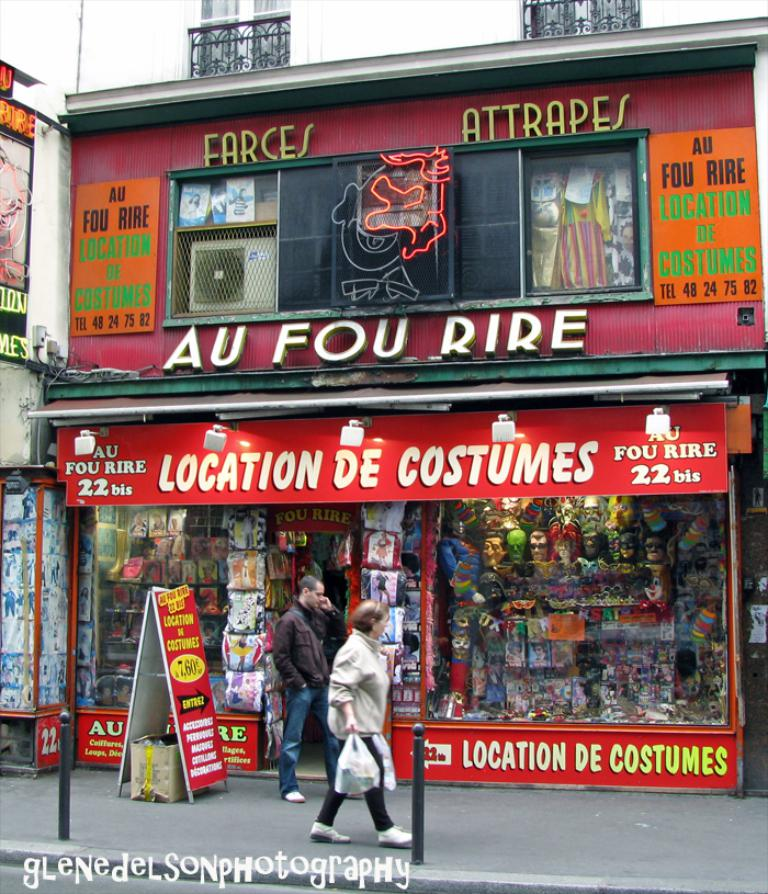Person: (271, 574, 365, 802)
